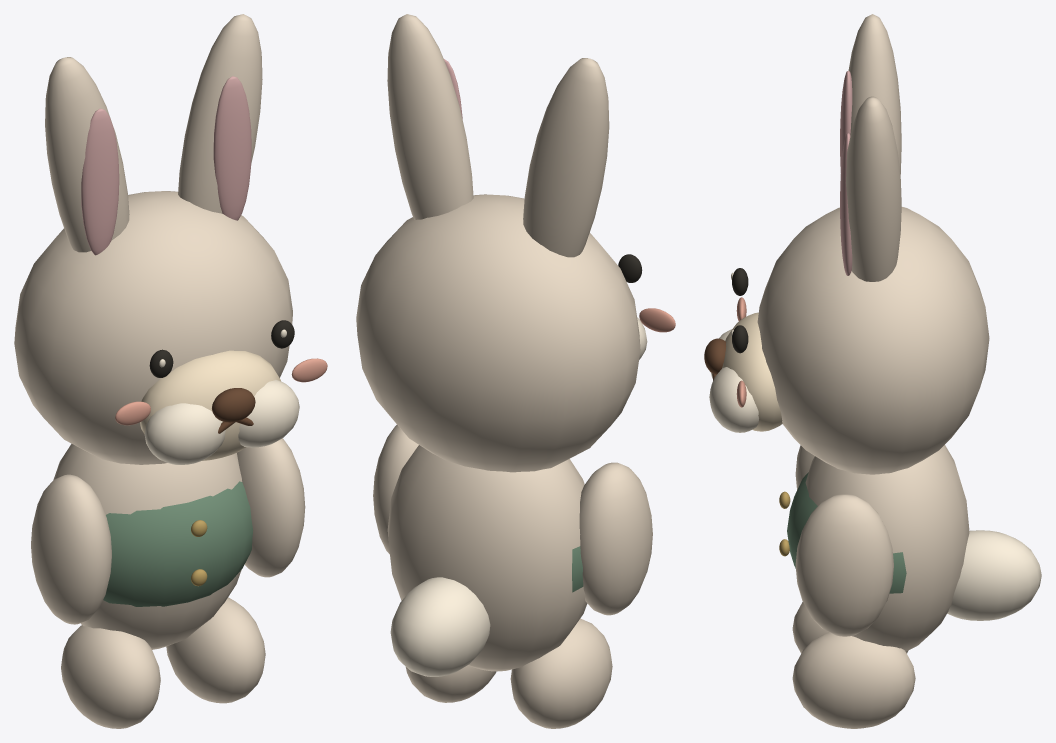
The model's file is rabbit.glb.
The picture shows the model from 3 angles, left to right: view 1: azimuth 30°, elevation 25°; view 2: azimuth 150°, elevation 25°; view 3: azimuth 270°, elevation 25°; orthographic projection. The views are drawn at different scales.
Parts seen in each view (by area): view 1: Head.001, Soft waistcoat.002, Body.002, arm_L.002, foot_L.002, Ear.005, Ear.004, foot_R.002, arm_R.002, Muzzle.001, Inner ear.005, Inner ear.004 (+5 smaller); view 2: Head.001, Body.002, Ear.005, Ear.004, arm_L.002, Tail, foot_L.002, arm_R.002, foot_R.002, Blush.004, Eye.004; view 3: Head.001, Body.002, arm_R.002, foot_R.002, Ear.005, Tail, Ear.004, Muzzle.001, Rabbit cheek.001, Soft waistcoat.002, Inner ear.005, foot_L.002 (+2 smaller).
Boxes of the visible parts, bbox=[...] form: Head.001: bbox=[14, 191, 292, 464]; Soft waistcoat.002: bbox=[103, 481, 253, 606]; Body.002: bbox=[53, 443, 242, 649]; arm_L.002: bbox=[31, 474, 111, 624]; foot_L.002: bbox=[61, 625, 160, 728]; Ear.005: bbox=[178, 14, 262, 213]; Ear.004: bbox=[45, 57, 129, 252]; foot_R.002: bbox=[166, 597, 265, 703]; arm_R.002: bbox=[237, 438, 305, 577]; Muzzle.001: bbox=[140, 350, 281, 460]; Inner ear.005: bbox=[213, 76, 251, 220]; Inner ear.004: bbox=[81, 108, 119, 255]; Head.001: bbox=[356, 194, 640, 472]; Body.002: bbox=[387, 445, 587, 671]; Ear.005: bbox=[387, 14, 473, 219]; Ear.004: bbox=[523, 58, 609, 257]; arm_L.002: bbox=[579, 462, 652, 615]; Tail: bbox=[390, 577, 490, 676]; foot_L.002: bbox=[510, 618, 612, 728]; arm_R.002: bbox=[373, 425, 418, 554]; foot_R.002: bbox=[405, 665, 496, 702]; Blush.004: bbox=[639, 308, 675, 332]; Eye.004: bbox=[618, 254, 642, 282]; Head.001: bbox=[757, 207, 989, 474]; Body.002: bbox=[805, 445, 969, 650]; arm_R.002: bbox=[795, 494, 893, 636]; foot_R.002: bbox=[792, 632, 915, 728]; Ear.005: bbox=[845, 96, 901, 281]; Tail: bbox=[947, 530, 1041, 620]; Ear.004: bbox=[848, 14, 901, 174]; Muzzle.001: bbox=[722, 312, 782, 431]; Rabbit cheek.001: bbox=[709, 367, 758, 432]; Soft waistcoat.002: bbox=[787, 472, 906, 593]; Inner ear.005: bbox=[840, 133, 852, 275]; foot_L.002: bbox=[792, 602, 908, 653].
Size of the model in its own units: 0.93 by 2.31 by 1.1.
